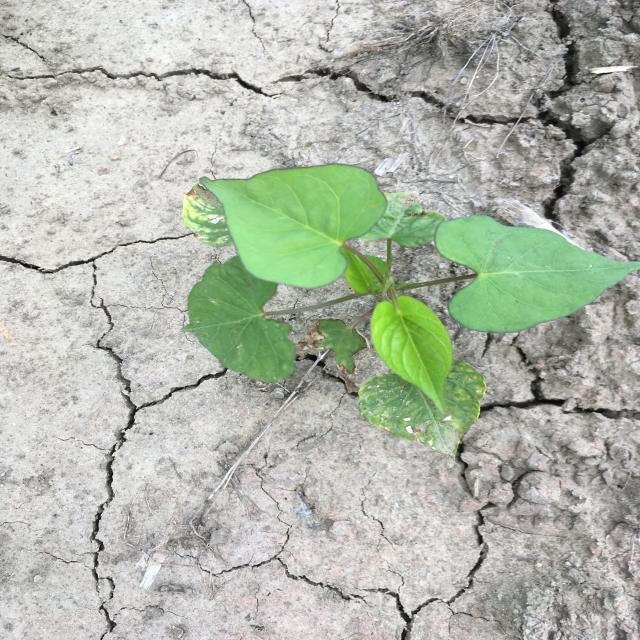MorningGlory: (179, 163, 640, 468)
